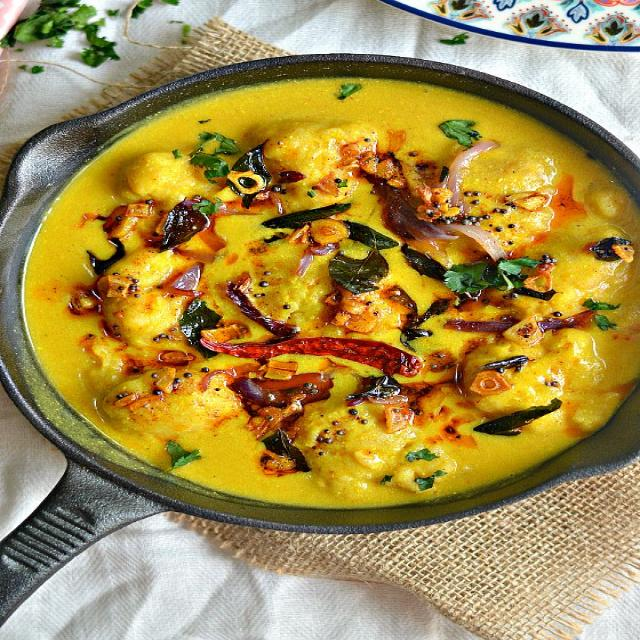Kadhi Pakora: (0, 78, 640, 513)
